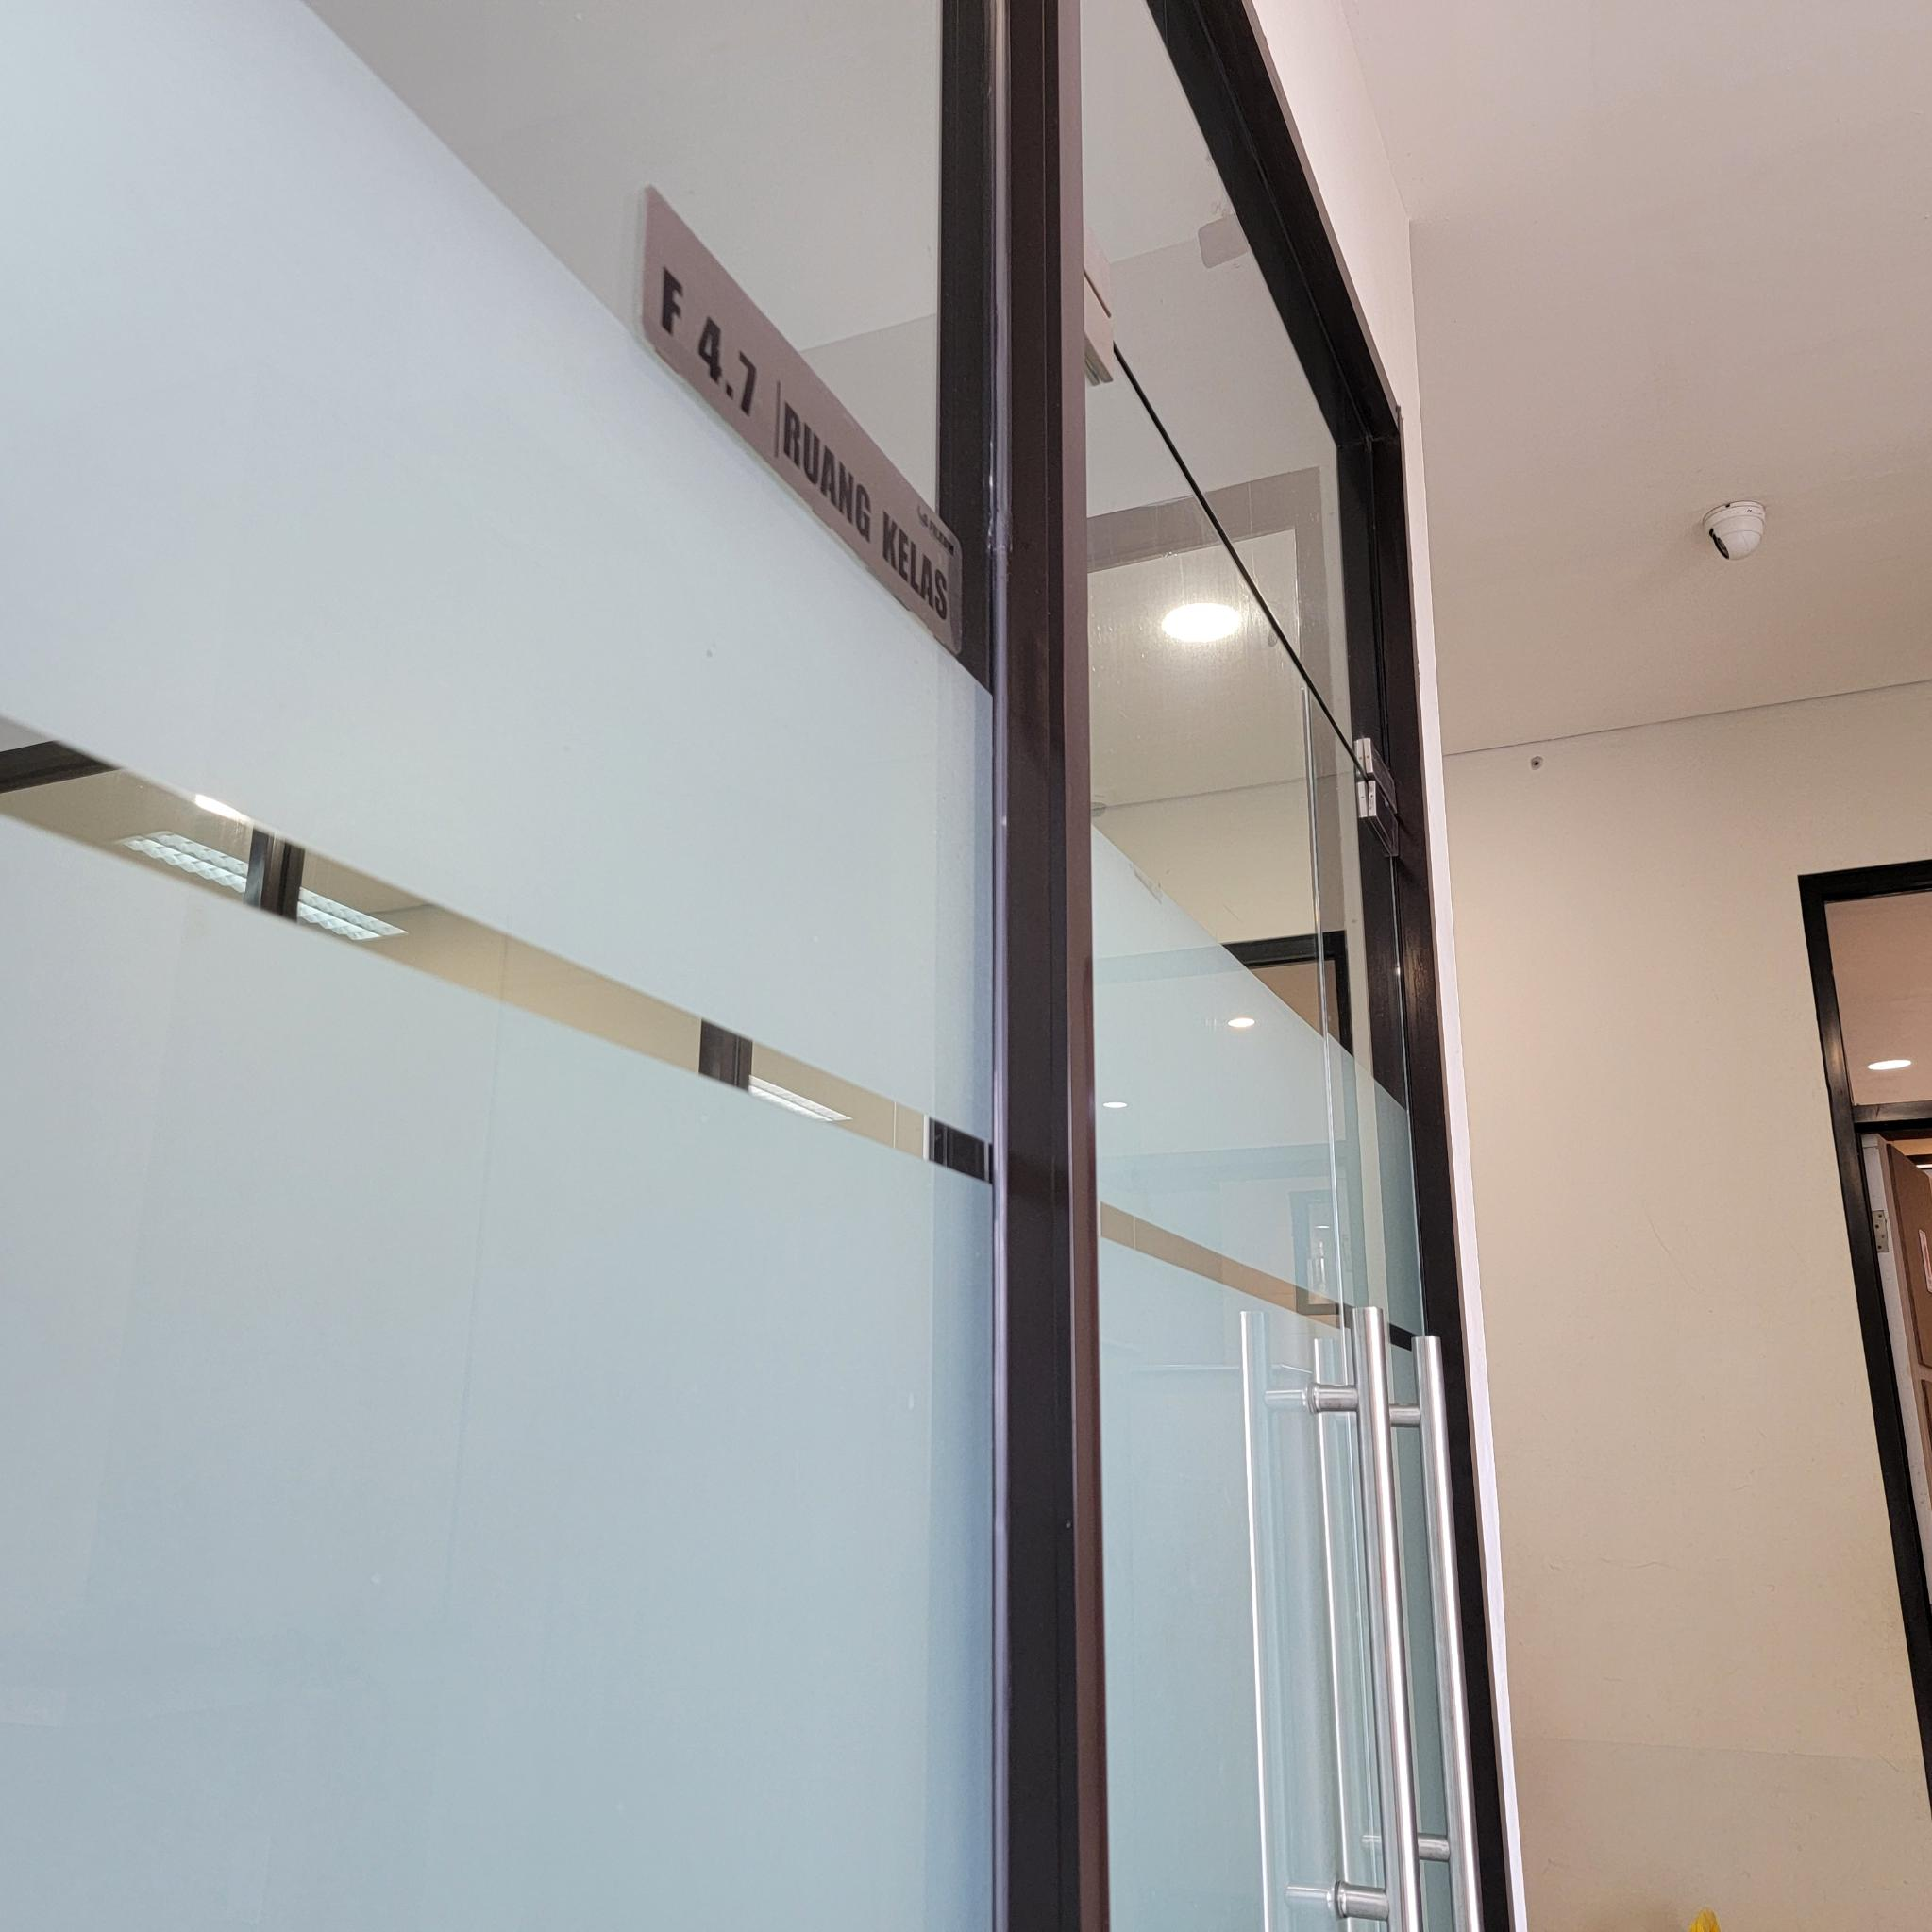plate: (642, 180, 964, 662)
